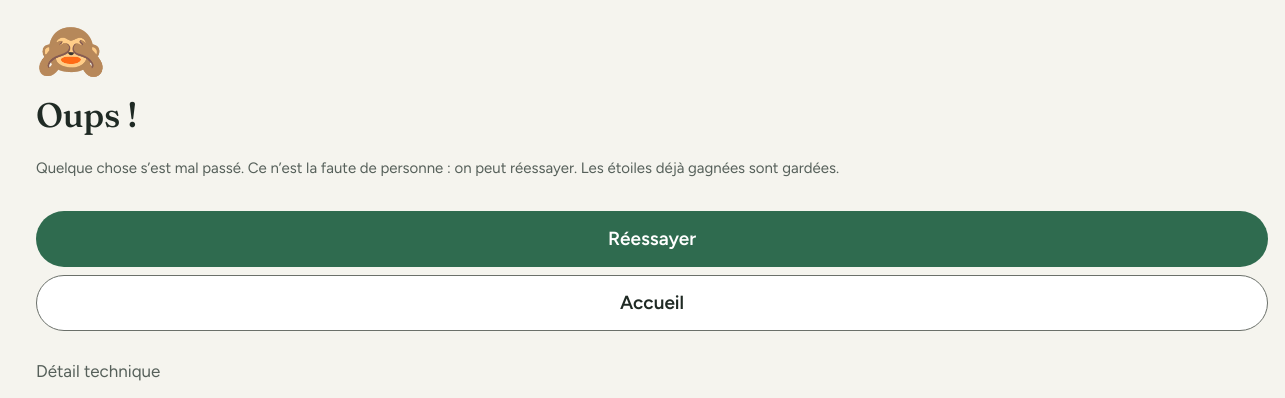
Scenario: Écran « Oups » › « Réessayer » remonte l’écran
Click the button "Réessayer": [652, 239] box [36, 211, 1268, 267]
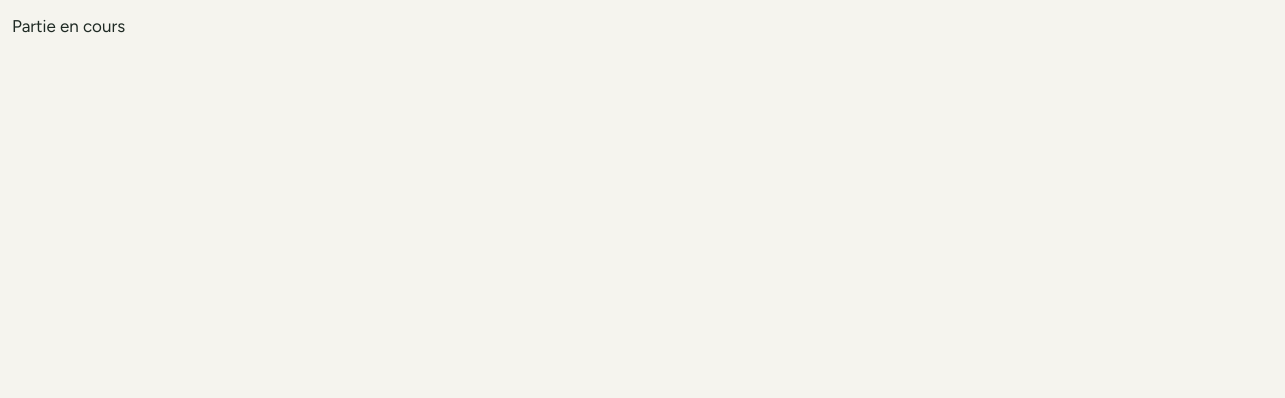
expect the text "Partie en cours" is shown: met, box [12, 16, 125, 36]
